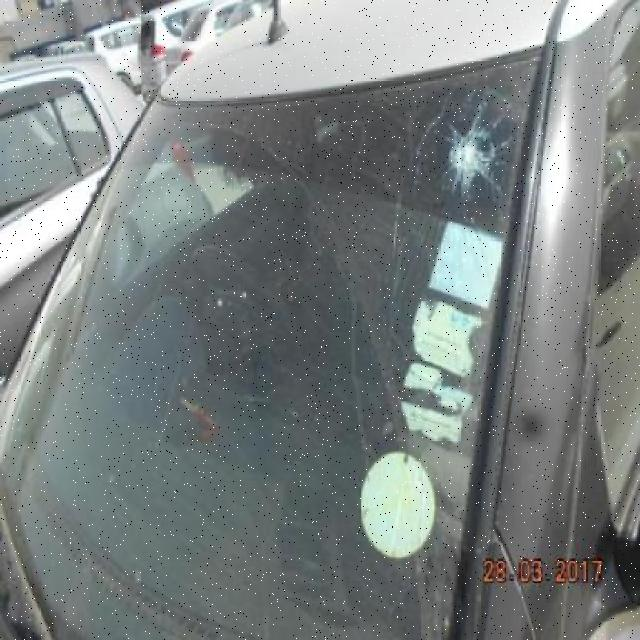damage: (435, 121, 503, 195)
